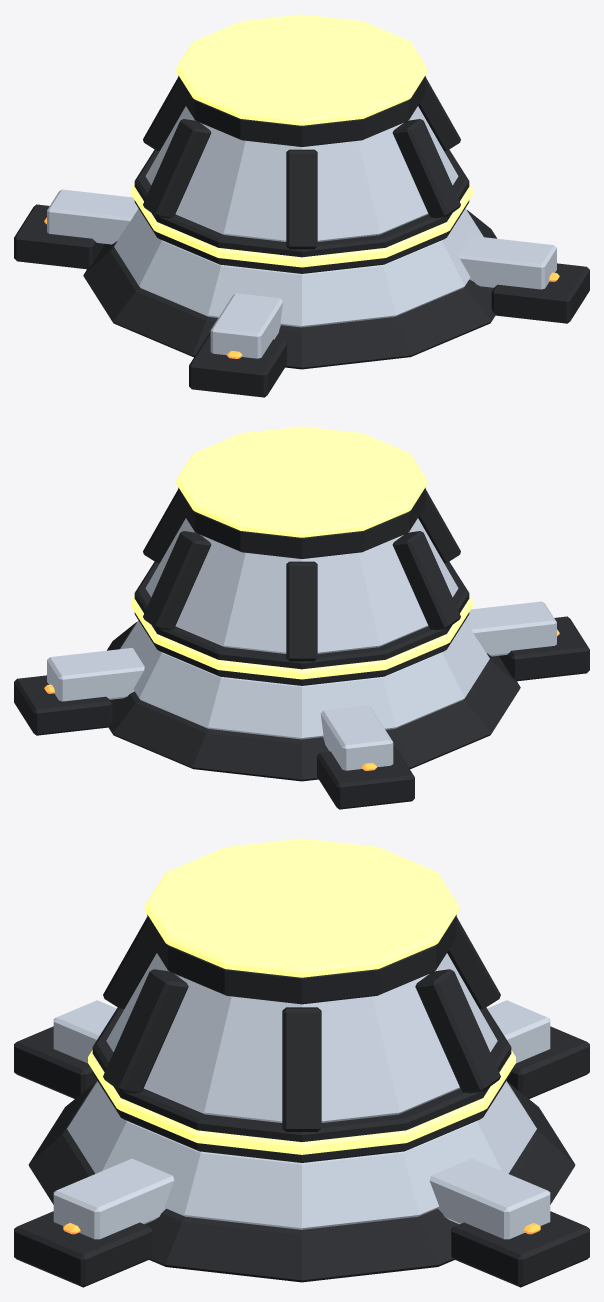
File: tower_cannon_base.glb
The picture shows the model from 3 angles, top to bottom: view 1: azimuth 30°, elevation 25°; view 2: azimuth 150°, elevation 25°; view 3: azimuth 270°, elevation 25°; orthographic projection. The views are drawn at different scales.
Parts seen in each view (by area): view 1: TowerCannon_Base; view 2: TowerCannon_Base; view 3: TowerCannon_Base.
Boxes of the visible parts, bbox=[...] form: TowerCannon_Base: bbox=[14, 14, 589, 397]; TowerCannon_Base: bbox=[14, 426, 589, 809]; TowerCannon_Base: bbox=[14, 838, 589, 1287].
Bounding box in the file's own units: 0.8754 × 0.4431 × 0.8754.
